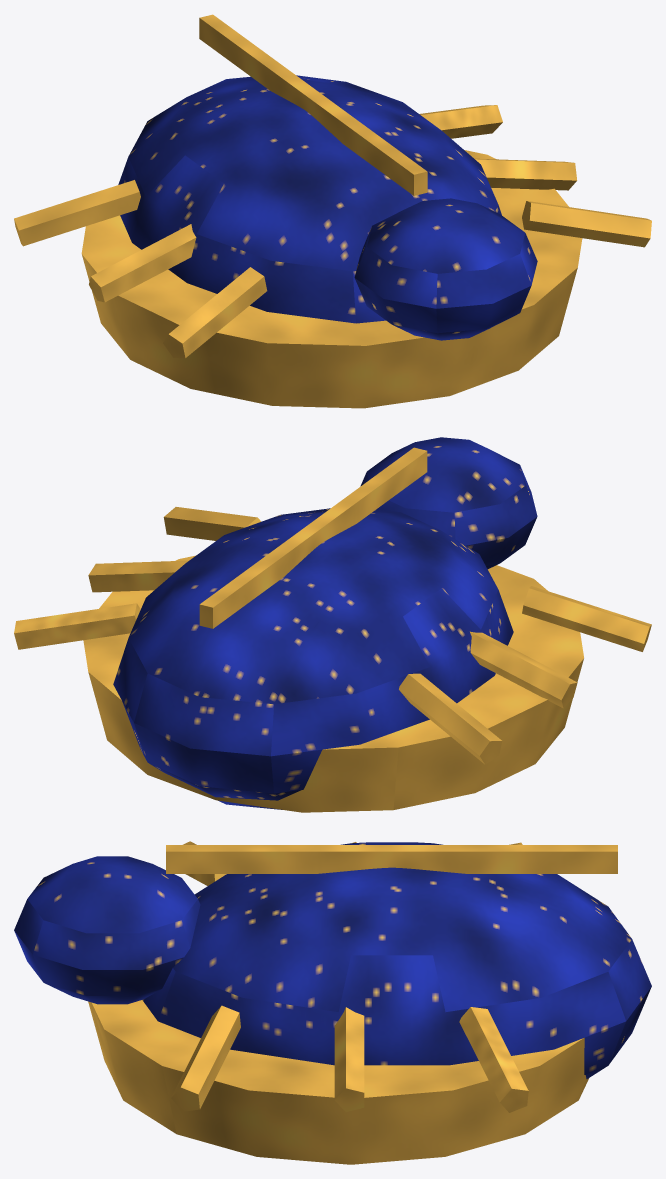
The model's file is scarab.gltf.
3 views of the same model, one above another, from view 1: azimuth 30°, elevation 25°; view 2: azimuth 150°, elevation 25°; view 3: azimuth 270°, elevation 25° (orthographic). The views are drawn at different scales.
Parts seen in each view (by area): view 1: Scarab; view 2: Scarab; view 3: Scarab.
Boxes of the visible parts, <box> form: Scarab: <box>14,14,651,408</box>; Scarab: <box>14,437,651,812</box>; Scarab: <box>14,841,651,1164</box>.
Size of the model in its own units: 0.1431 by 0.07 by 0.1552.
Materials: 2 (2 with a texture image).
